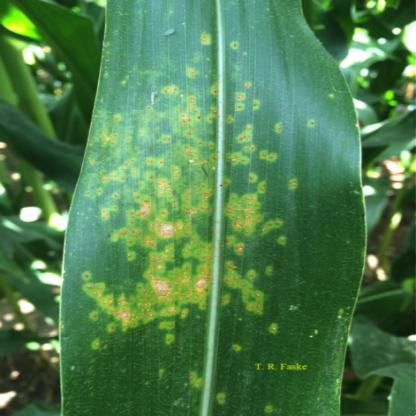corn rust leaf: (49, 1, 380, 415)
